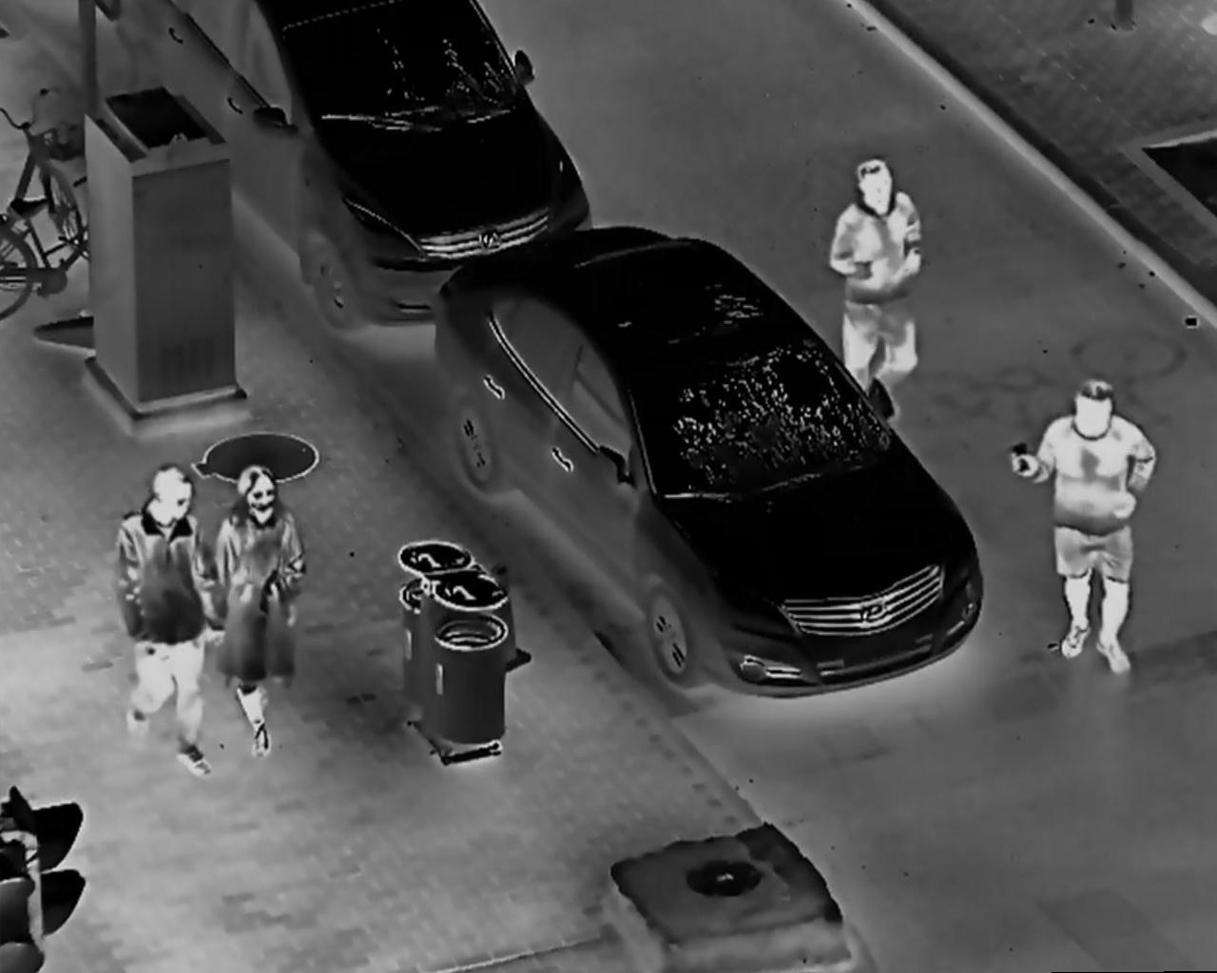person: (1007, 375, 1159, 678), (109, 464, 228, 781), (212, 464, 311, 760), (825, 158, 925, 423)
